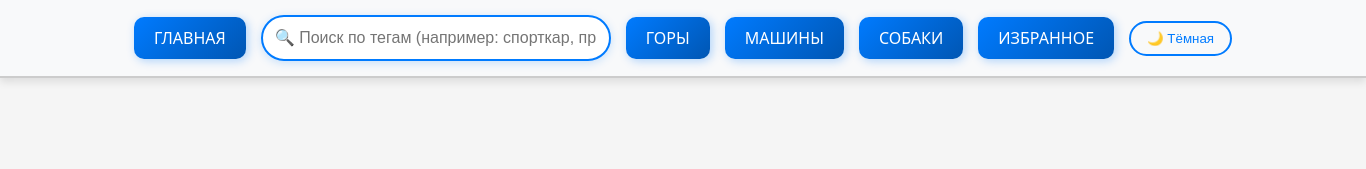
Test: Компонент Navigation › отображает сообщение "ничего не найдено", если фото не соответствуют поиску
# Симулируем ввод несуществующего запроса в поле поиска
Type "что-то несуществующее" into the field with placeholder "🔍 Поиск по тегам (например: спорткар, природа)...".
click(436, 38); type("что-то несуществующее")  # box [261,15,611,61]
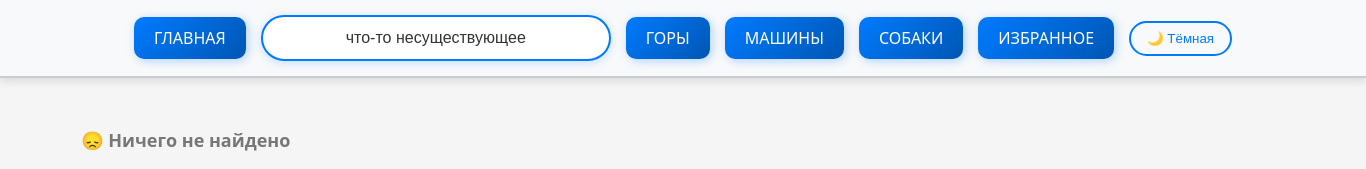
expect the text "😞 Ничего не найдено" is shown: met, box [81,128,290,152]
